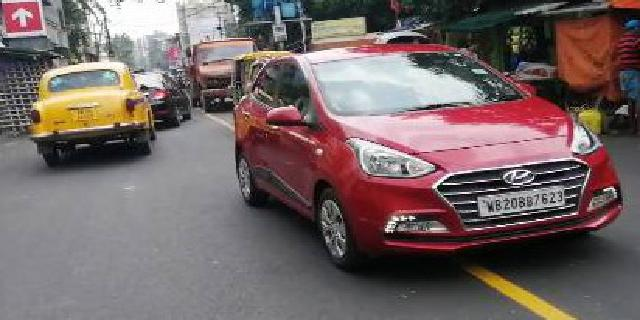Car: (232, 39, 627, 271), (28, 57, 163, 166)
Truck: (185, 41, 236, 106)
